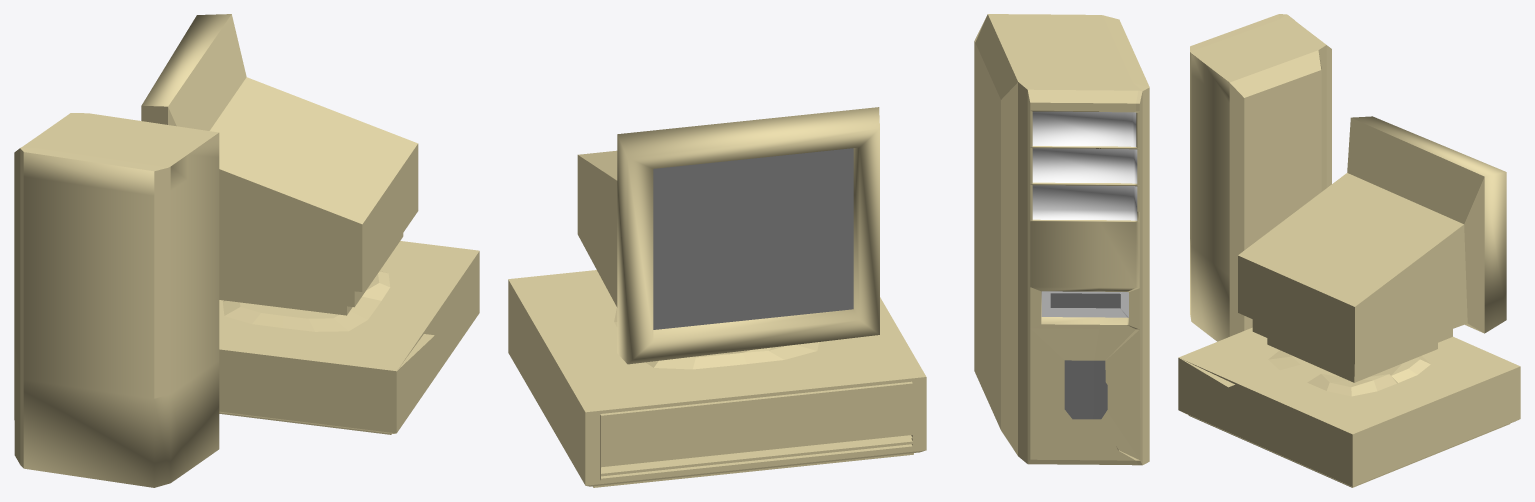
The model's file is computer office + pc .fbx.
3 views of the same model, side by side, from view 1: azimuth 30°, elevation 25°; view 2: azimuth 150°, elevation 25°; view 3: azimuth 270°, elevation 25° (orthographic). The views are drawn at different scales.
Parts seen in each view (by area): view 1: Cube.065, Cube.067; view 2: Cube.065, Cube.067; view 3: Cube.065, Cube.067.
Boxes of the visible parts, <box> form: Cube.065: <box>141,14,479,434</box>; Cube.067: <box>14,113,219,487</box>; Cube.065: <box>508,107,926,487</box>; Cube.067: <box>974,14,1149,465</box>; Cube.065: <box>1178,116,1520,487</box>; Cube.067: <box>1190,14,1331,341</box>.
Bounding box in the file's own units: 254 × 156 × 178.
